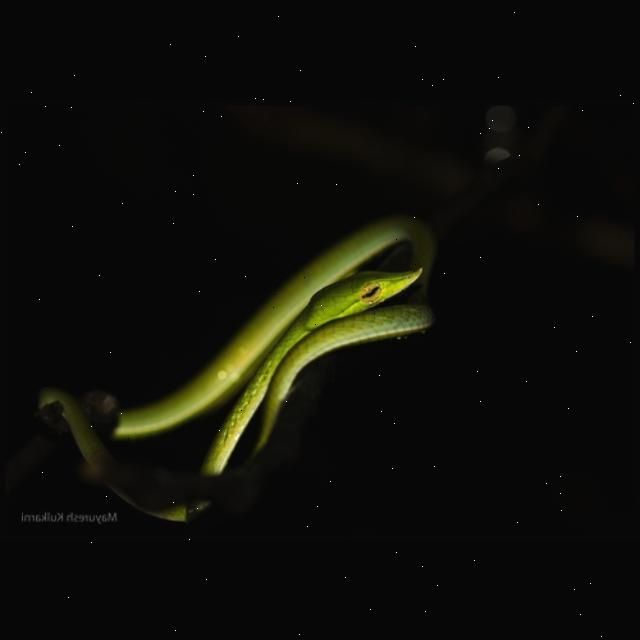snake: (35, 206, 443, 524)
